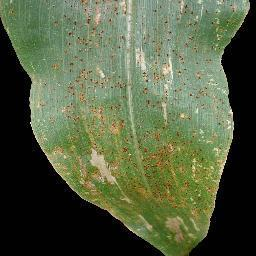Corn_Common_Rust: (88, 0, 254, 256), (53, 0, 88, 199), (24, 72, 51, 160), (0, 0, 16, 39)
